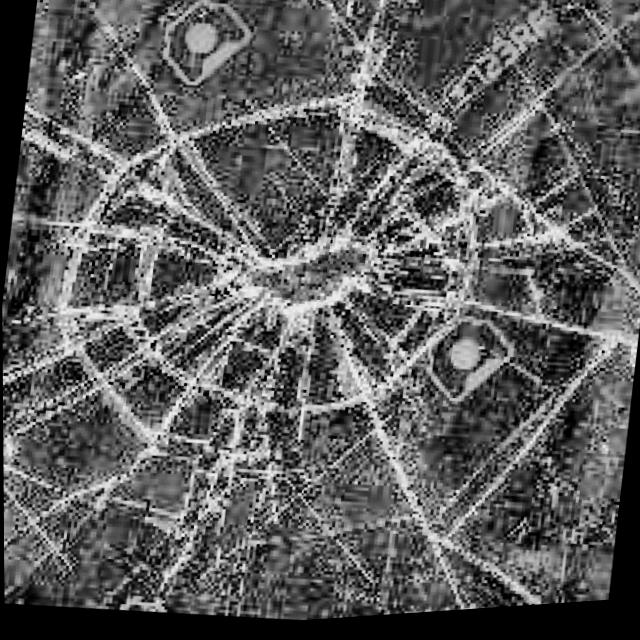glass_shatter: (66, 77, 508, 434)
